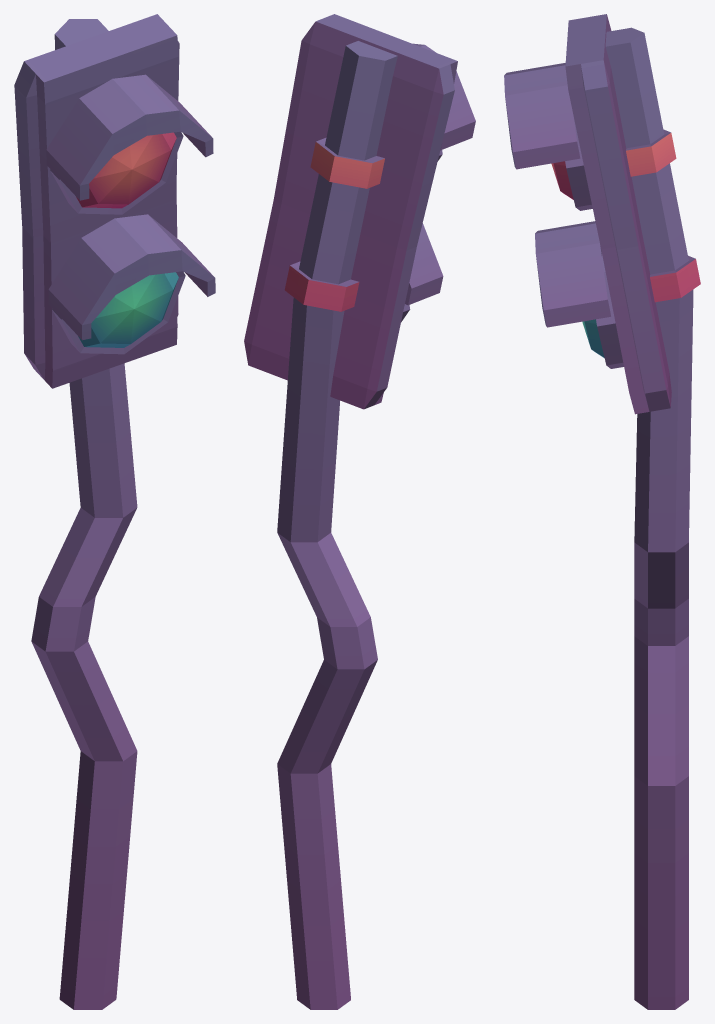
Rendered from traffic_light001.obj.
3 renders of one model, left to right at view 1: azimuth 30°, elevation 25°; view 2: azimuth 150°, elevation 25°; view 3: azimuth 270°, elevation 25°, orthographic. The views are drawn at different scales.
Visible parts, largest first — view 1: traffic_light.001; view 2: traffic_light.001; view 3: traffic_light.001.
Part boxes in pixels (<box>): traffic_light.001: <box>14,14,215,1009</box>; traffic_light.001: <box>244,14,475,1009</box>; traffic_light.001: <box>504,14,700,1009</box>.
Bounding box in the file's own units: 2.29 × 12.04 × 2.24.
Materials: 1 (1 with a texture image).
